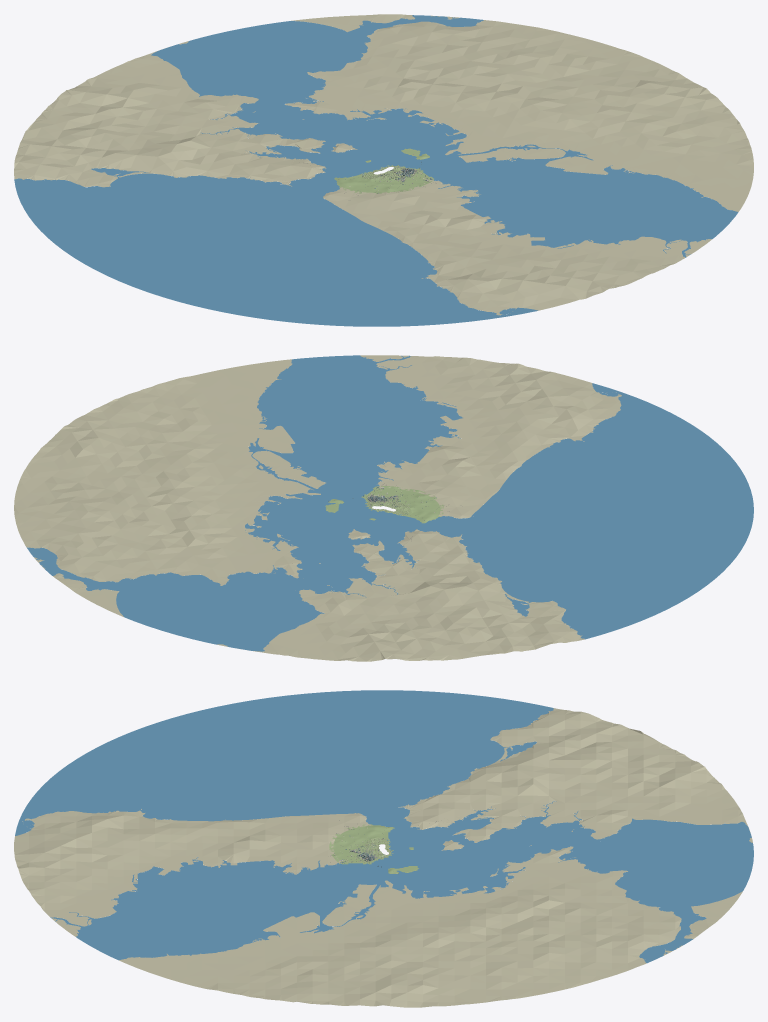
Rendered from backdrop.glb.
The picture shows the model from 3 angles, top to bottom: view 1: azimuth 30°, elevation 25°; view 2: azimuth 150°, elevation 25°; view 3: azimuth 270°, elevation 25°; orthographic projection.
Parts seen in each view (by area): view 1: backdrop_horizon_land, backdrop_horizon_water, backdrop_water, backdrop_terrain_grass; view 2: backdrop_horizon_land, backdrop_horizon_water, backdrop_water, backdrop_terrain_grass; view 3: backdrop_horizon_land, backdrop_horizon_water, backdrop_terrain_grass, backdrop_water.
Boxes of the visible parts, <box> form: backdrop_horizon_land: <box>14,14,753,315</box>; backdrop_horizon_water: <box>14,15,738,326</box>; backdrop_water: <box>329,148,438,184</box>; backdrop_terrain_grass: <box>334,148,434,193</box>; backdrop_horizon_land: <box>14,355,621,661</box>; backdrop_horizon_water: <box>27,355,753,651</box>; backdrop_water: <box>328,487,434,530</box>; backdrop_terrain_grass: <box>325,486,443,523</box>; backdrop_horizon_land: <box>14,708,752,1007</box>; backdrop_horizon_water: <box>15,690,753,963</box>; backdrop_terrain_grass: <box>329,824,418,873</box>; backdrop_water: <box>345,825,434,874</box>.
Size of the model in its own units: 71841 by 687 by 70421.
